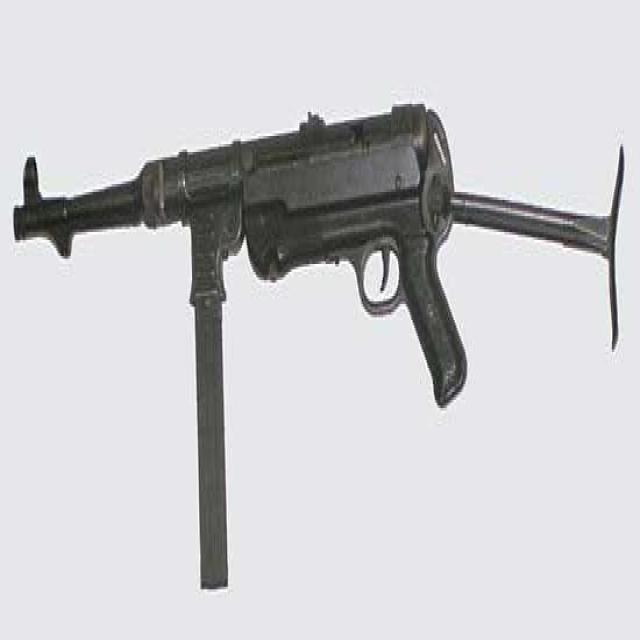weapon: (14, 112, 625, 597)
